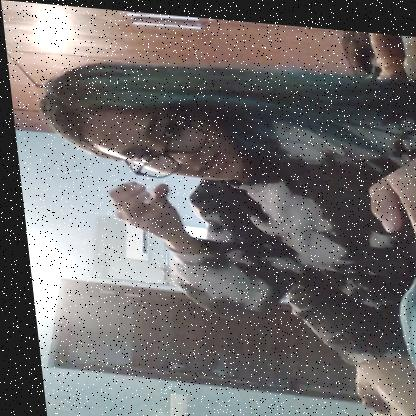streamer: (29, 44, 416, 416)
